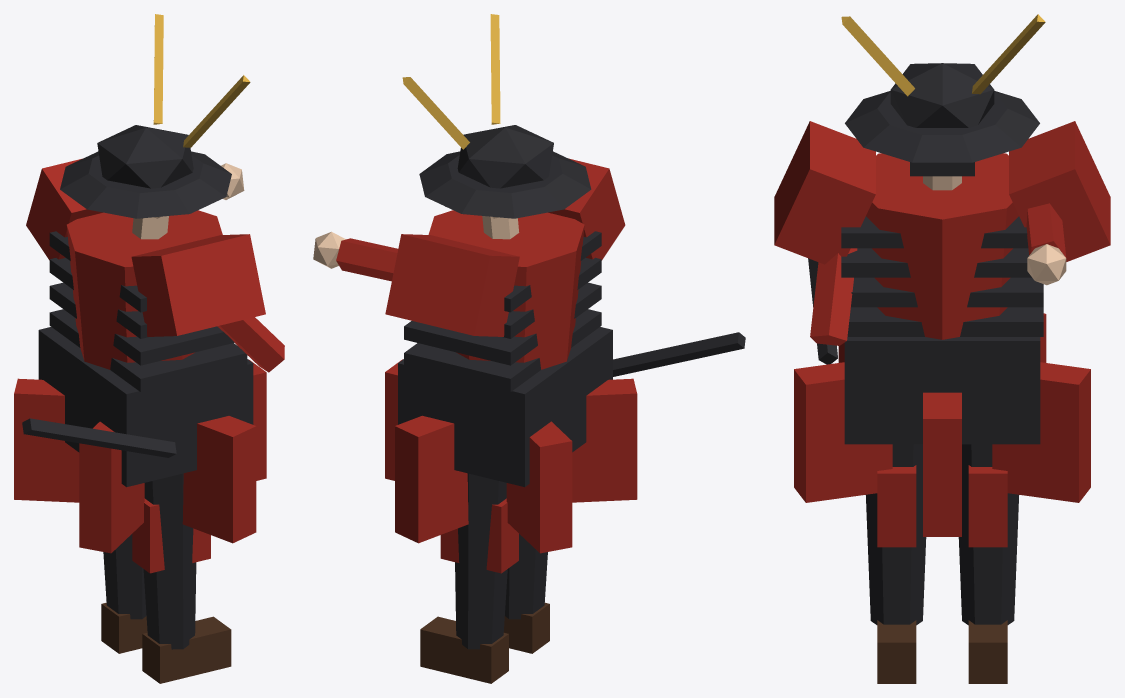
Rendered from samurai.glb.
3 renders of one model, left to right at view 1: azimuth 30°, elevation 25°; view 2: azimuth 150°, elevation 25°; view 3: azimuth 270°, elevation 25°, orthographic. The views are drawn at different scales.
Visible parts, largest first — view 1: Torn, Kaross, BenH, BenV, Pipa; view 2: Torn, Kaross, BenV, BenH, Pipa; view 3: Torn, Kaross, BenH, BenV, Pipa.
Part boxes in pixels (box(x1,y1,x2,y2)): Torn: box(26, 14, 284, 391); Kaross: box(14, 327, 266, 553); BenH: box(132, 473, 231, 683); BenV: box(101, 534, 147, 653); Pipa: box(221, 163, 244, 199); Torn: box(385, 14, 625, 391); Kaross: box(385, 327, 745, 553); BenV: box(420, 473, 518, 683); BenH: box(503, 534, 549, 653); Pipa: box(313, 231, 398, 281); Torn: box(774, 14, 1110, 345); Kaross: box(794, 258, 1090, 536); BenH: box(866, 444, 926, 683); BenV: box(958, 444, 1018, 683); Pipa: box(1026, 203, 1066, 285).
Bounding box in the file's own units: 1.27 × 2.26 × 1.03.
